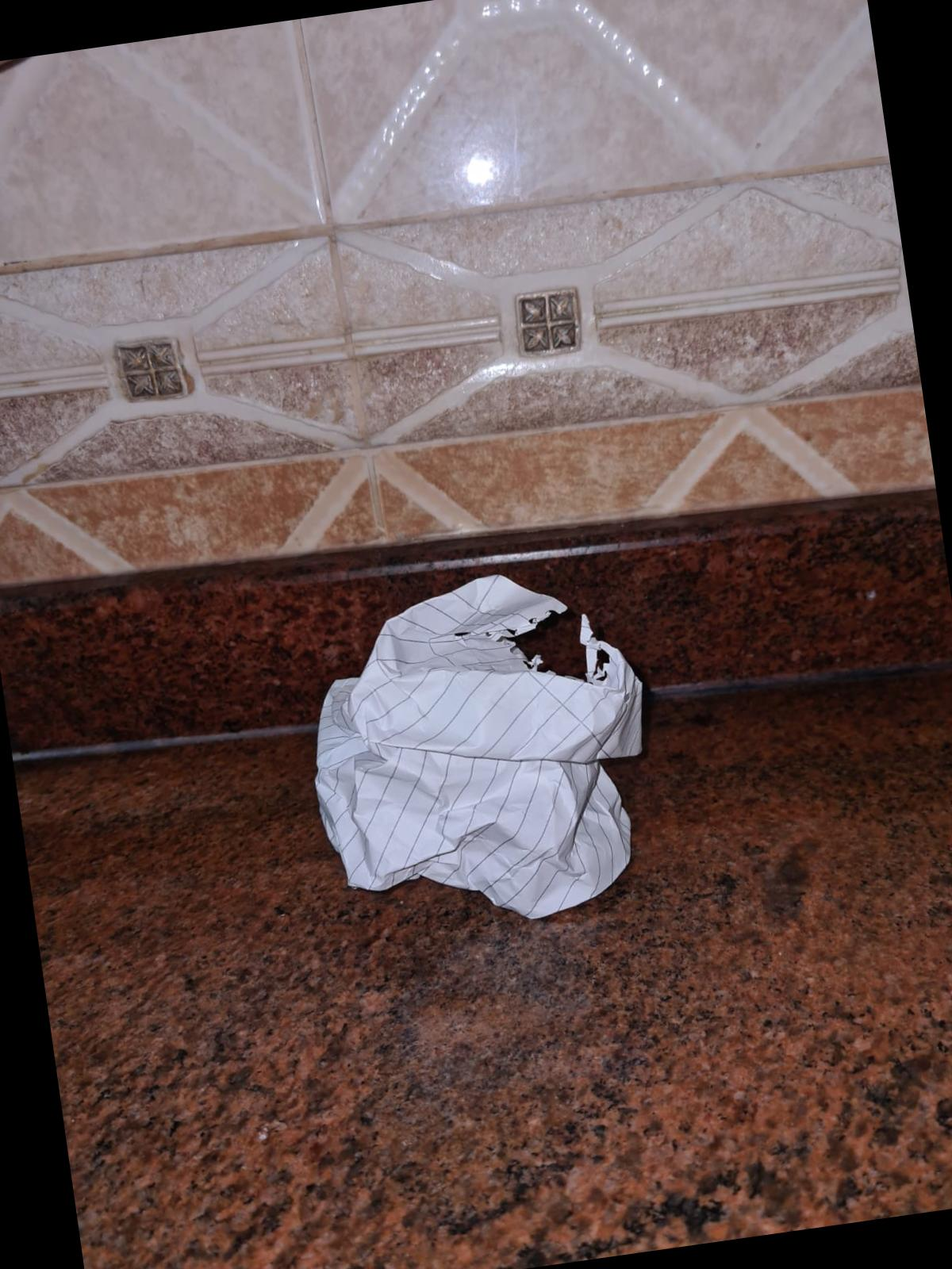Kertas: (315, 567, 651, 918)
